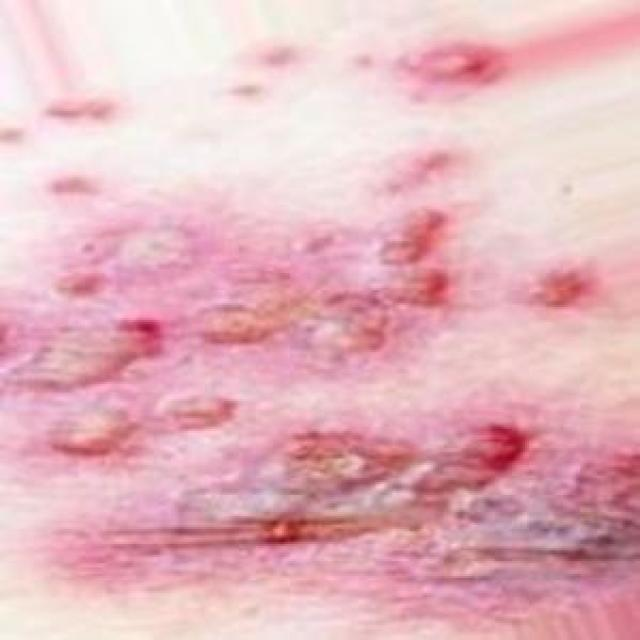Shingles: (0, 209, 619, 576)
